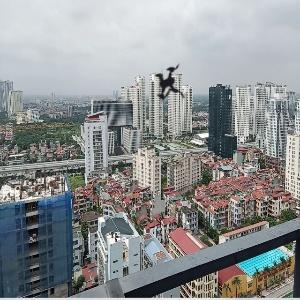drone: (128, 45, 205, 122)
